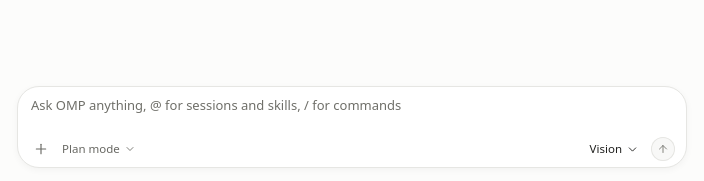
Composer image ingestion › opens a general file picker from the add menu and attaches its selection
The width and height of the screenshot is (704, 181).
What coordinates should you click on to do the following:
click the button named "Add context"
I would click on:
 (41, 149)
Its box is [29,137,53,161].
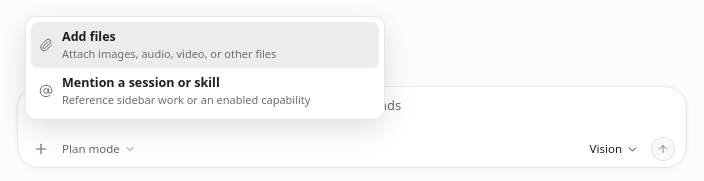
Expected: the list shows "Add files"
Expected: the list shows "Mention a session or skill", [31,68,379,114]
What coordinates should you click on to do the following:
click the option "Add files Attach images, audio, video, or other files"
I would click on:
 (205, 45)
Its box is [31,22,379,68].
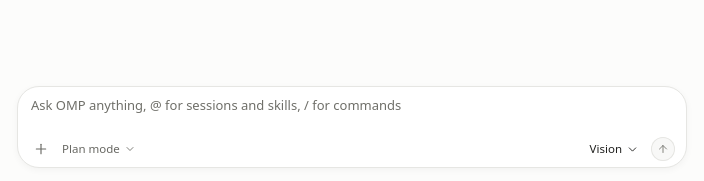
Expected: the list with class "composer-menu" is gone
